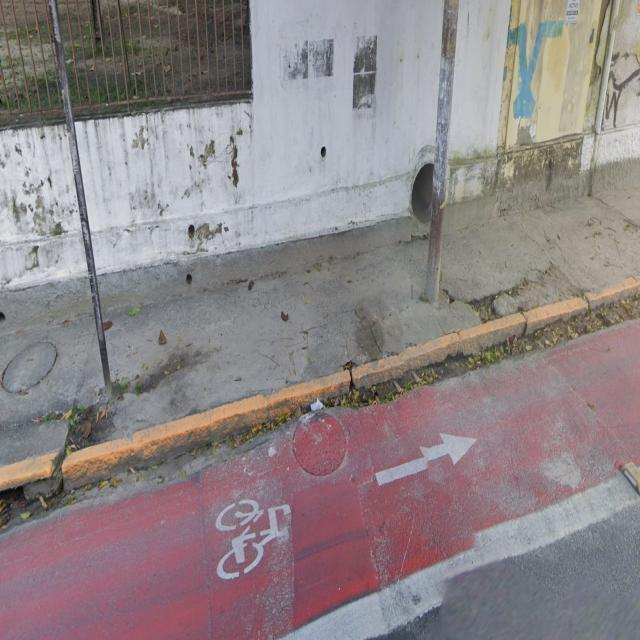Bueiro: (290, 399, 354, 478)
